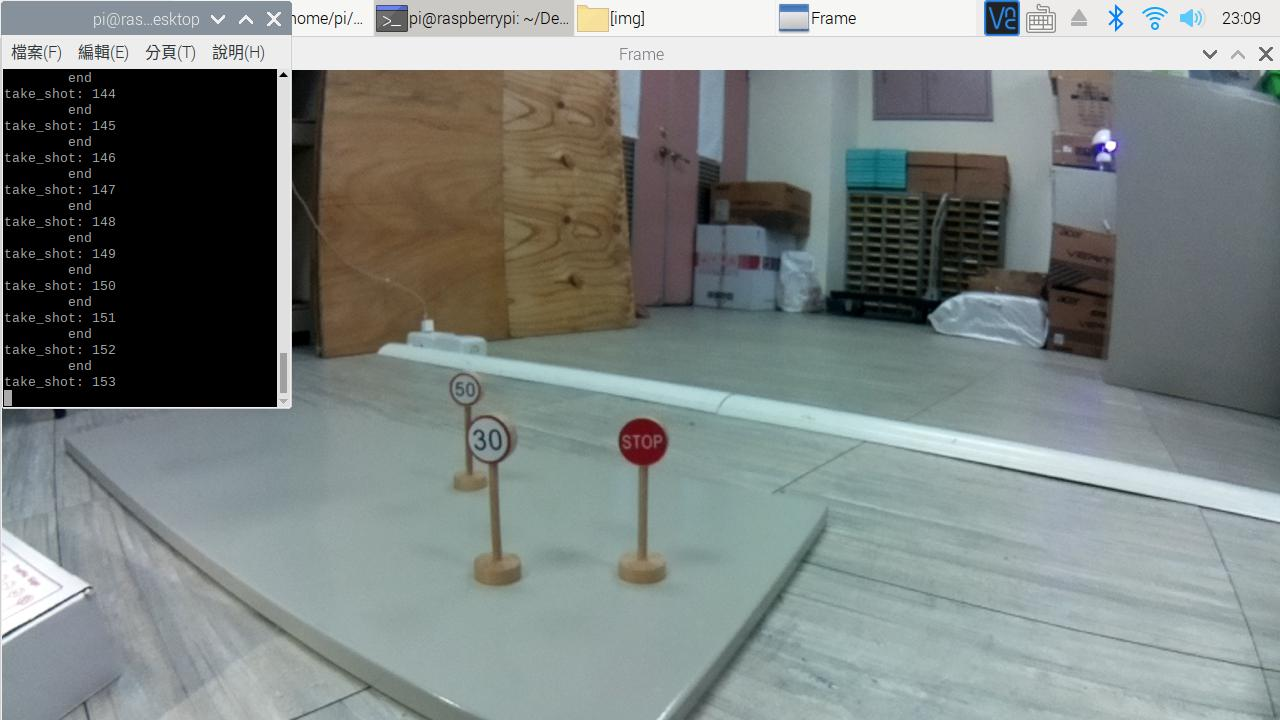Speed30: (453, 413, 527, 478)
Speed50: (443, 357, 490, 413)
Stop: (595, 408, 690, 485)
